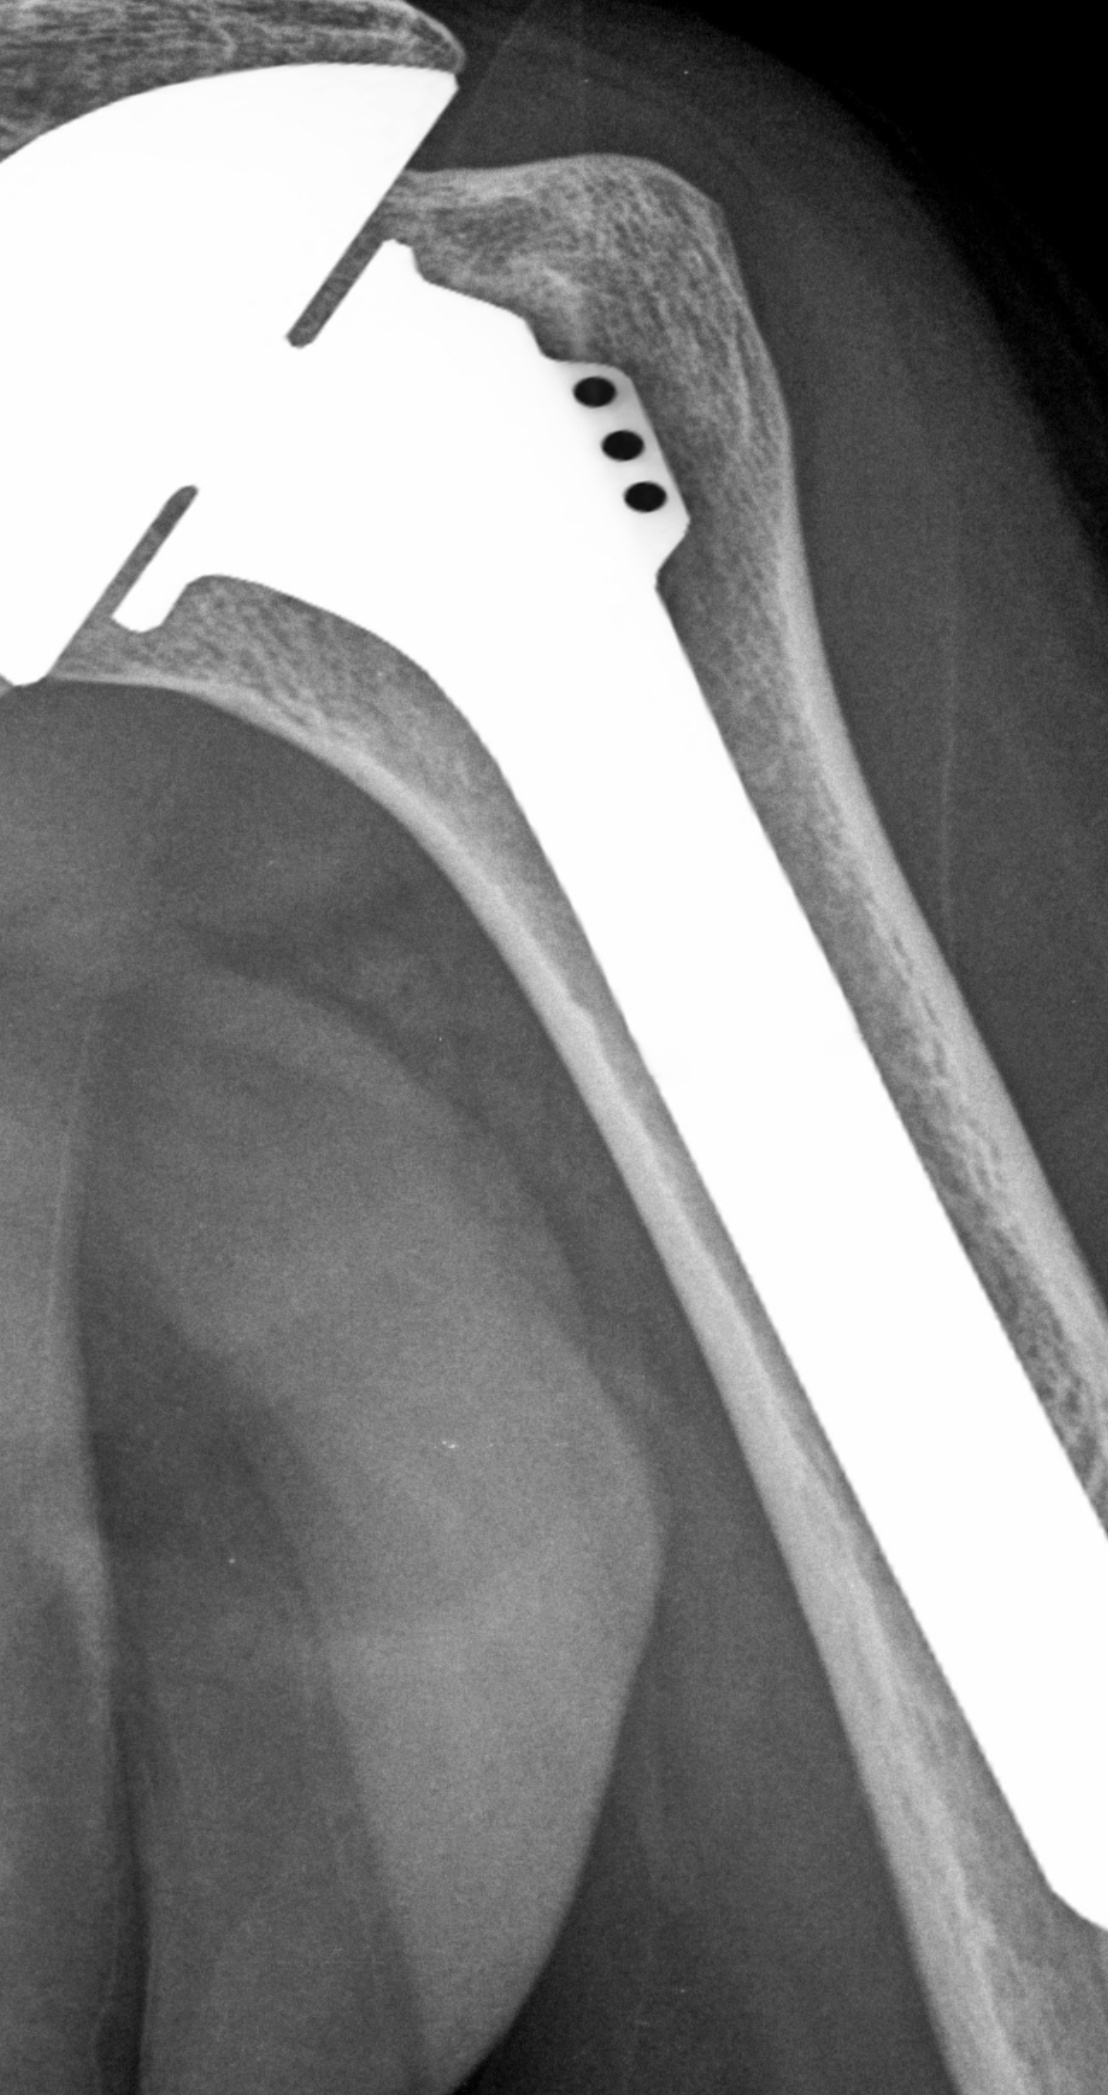Shoulder-Olympia-Wright: (1, 51, 1102, 1947)
